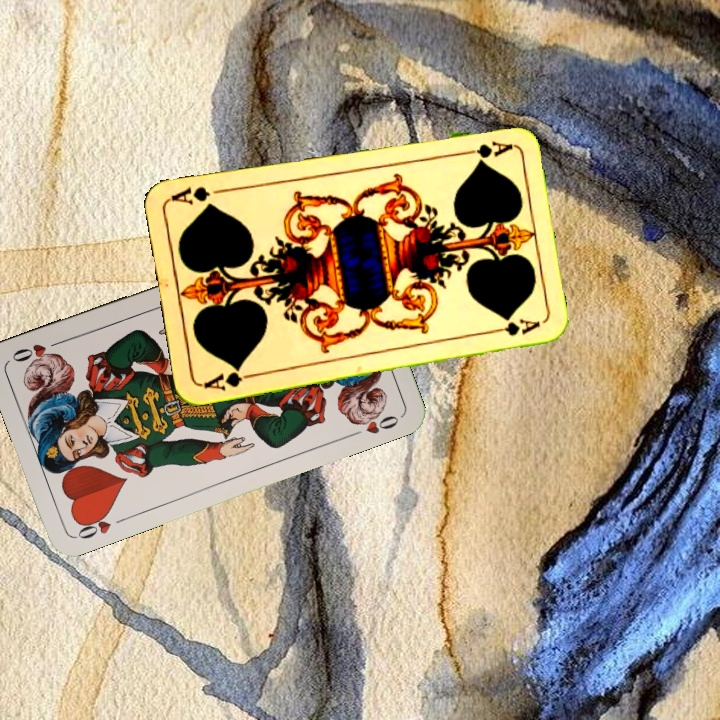GA: (199, 363, 258, 393), (455, 137, 514, 162)
HO: (72, 506, 113, 542)
